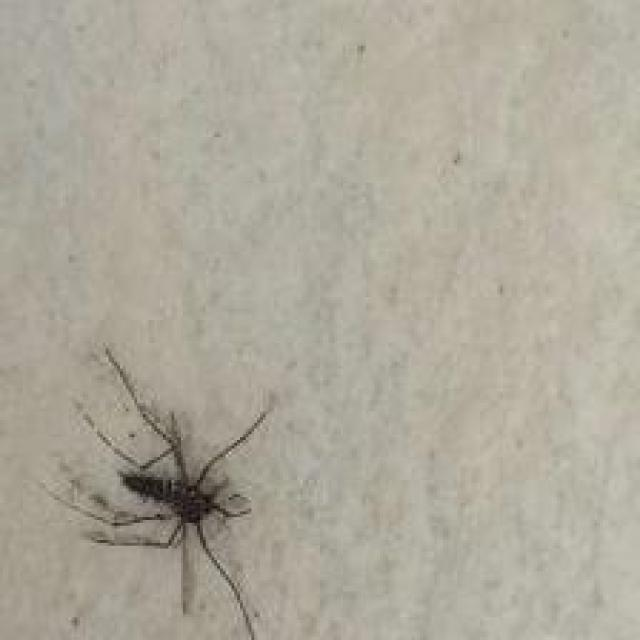Aedes albopictus: (38, 343, 276, 640)
